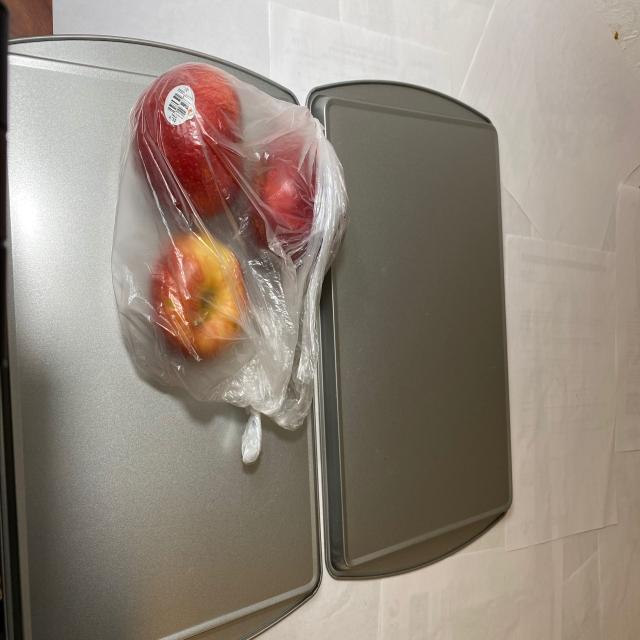apple: (135, 51, 327, 372)
